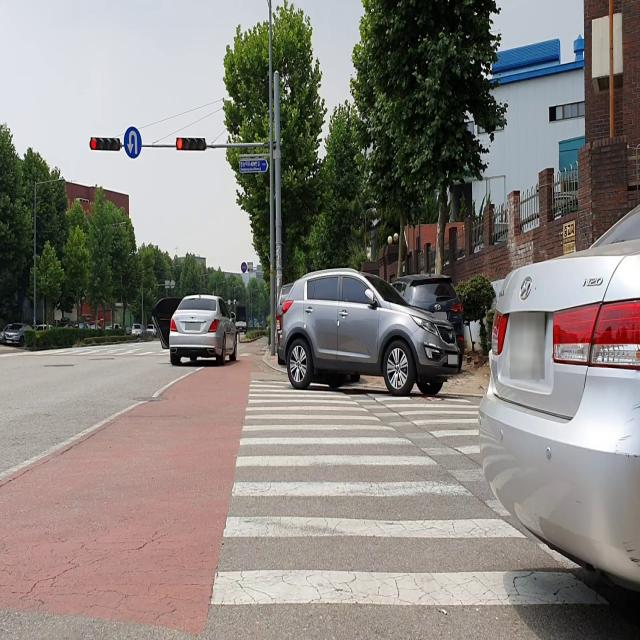횡단보도: (208, 374, 613, 633), (30, 343, 170, 361)
